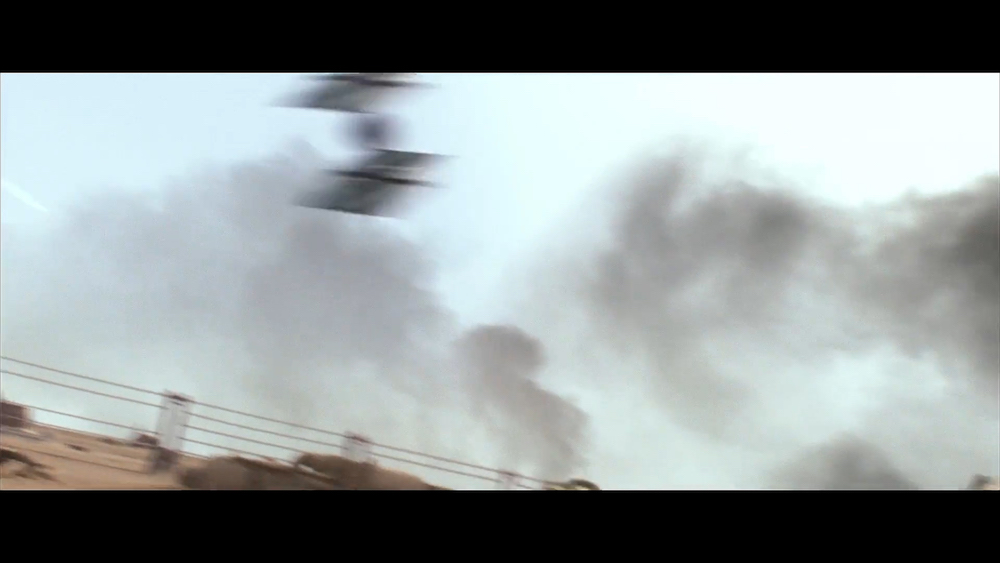Tie Fighter: (269, 74, 460, 221)
